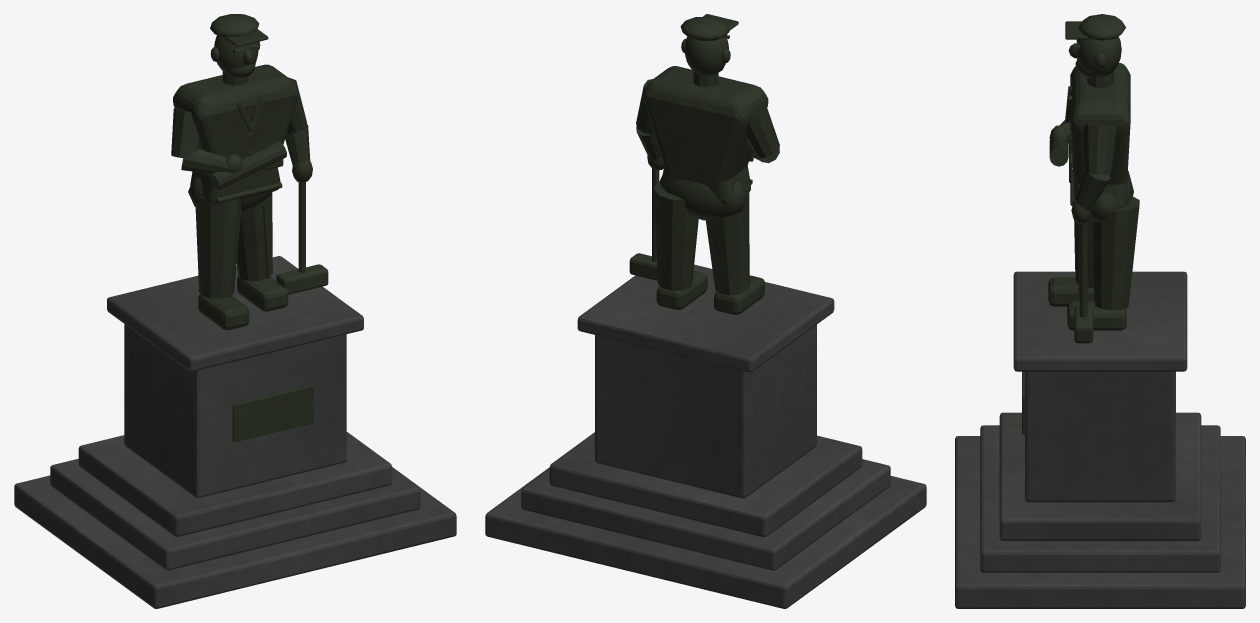
Rendered from transport_founder_monument_study.glb.
3 renders of one model, left to right at view 1: azimuth 30°, elevation 25°; view 2: azimuth 150°, elevation 25°; view 3: azimuth 270°, elevation 25°, orthographic. The views are drawn at different scales.
Visible parts, largest first — view 1: transport_founder_monument_study; view 2: transport_founder_monument_study; view 3: transport_founder_monument_study.
Boxes of the visible parts, box(x1,y1,x2,y2) form: transport_founder_monument_study: box(14, 14, 456, 608); transport_founder_monument_study: box(485, 14, 926, 608); transport_founder_monument_study: box(955, 14, 1245, 608).
Size of the model in its own units: 3.2 by 5.07 by 2.6.
Materials: 2 (2 with a texture image).
